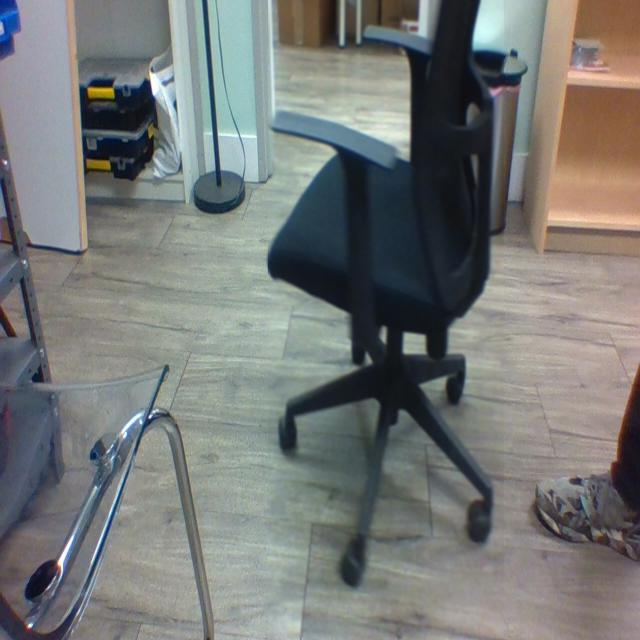black-chair: (268, 0, 505, 639)
